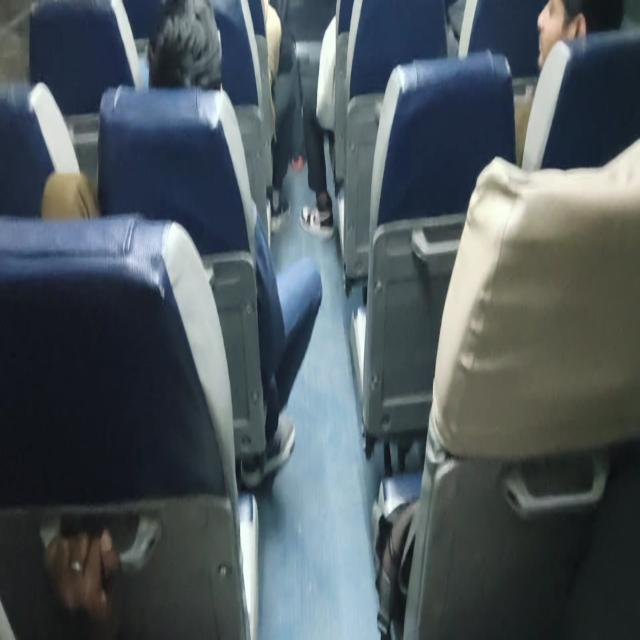person: (149, 0, 235, 100), (528, 0, 624, 56)
